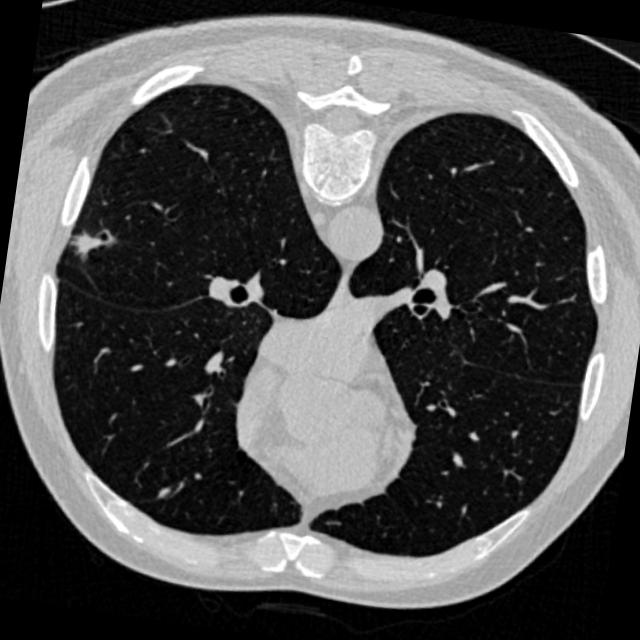nodule: (52, 212, 114, 274)
